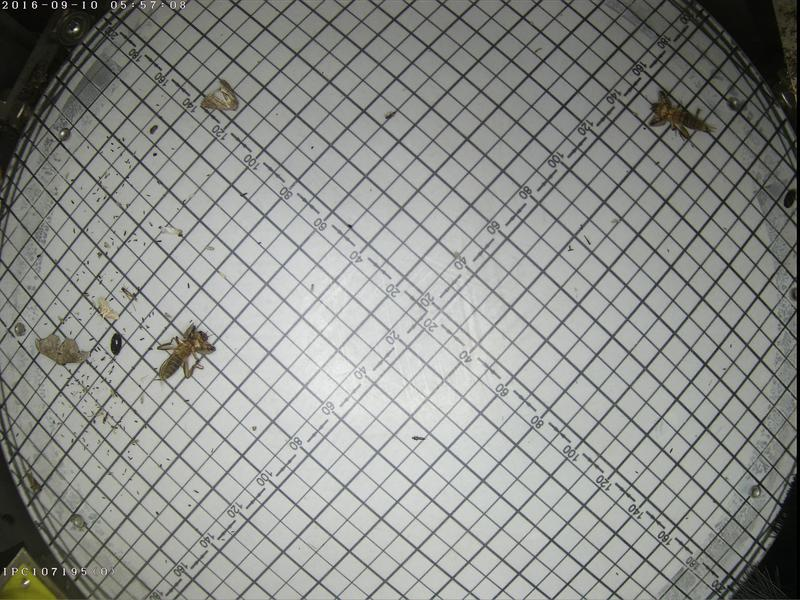Gryllotalpa orientalis: (149, 316, 215, 382), (644, 87, 716, 142)
